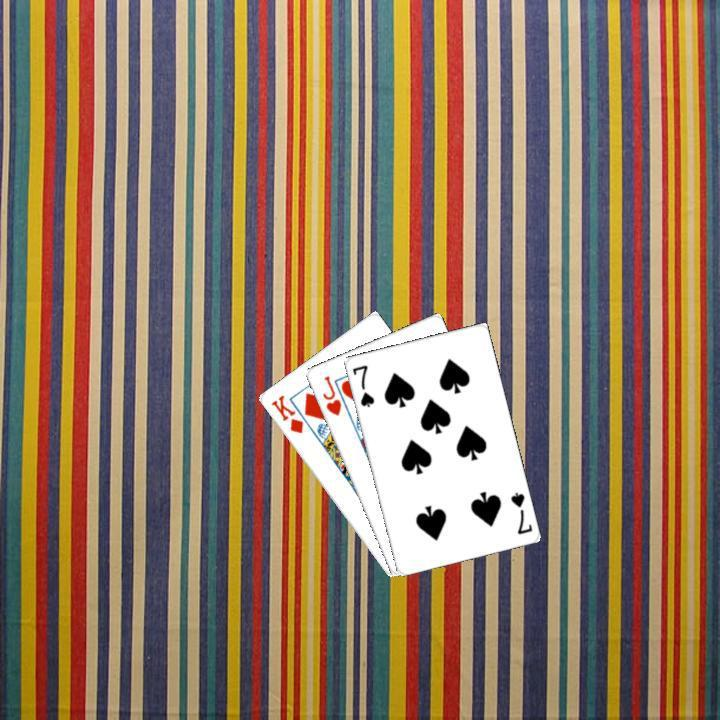7: (347, 360, 376, 409), (506, 487, 534, 536)
J: (318, 371, 343, 417)
K: (266, 390, 305, 436)
